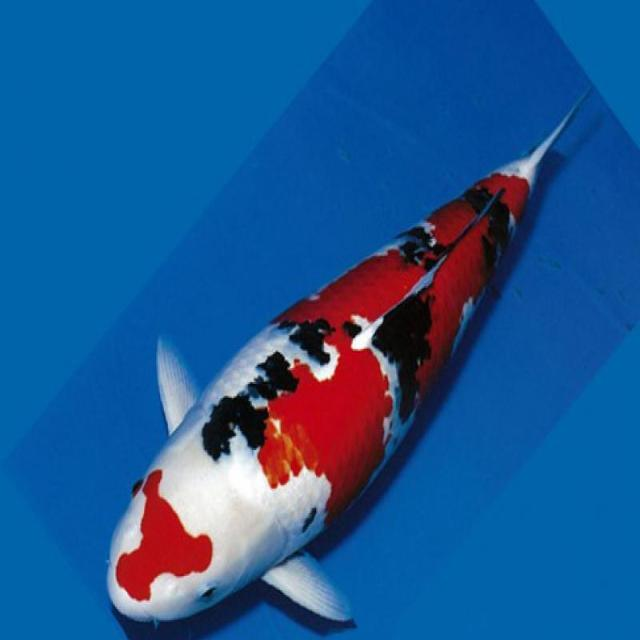Sanke: (104, 82, 592, 637)
